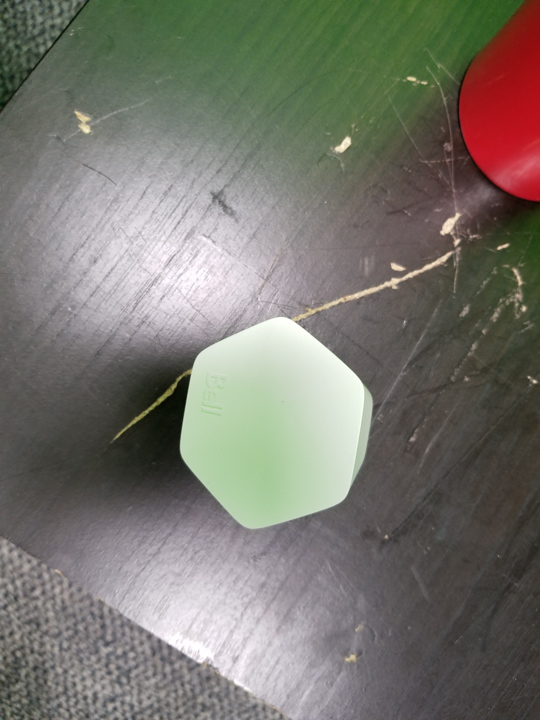pod: (176, 312, 382, 542)
